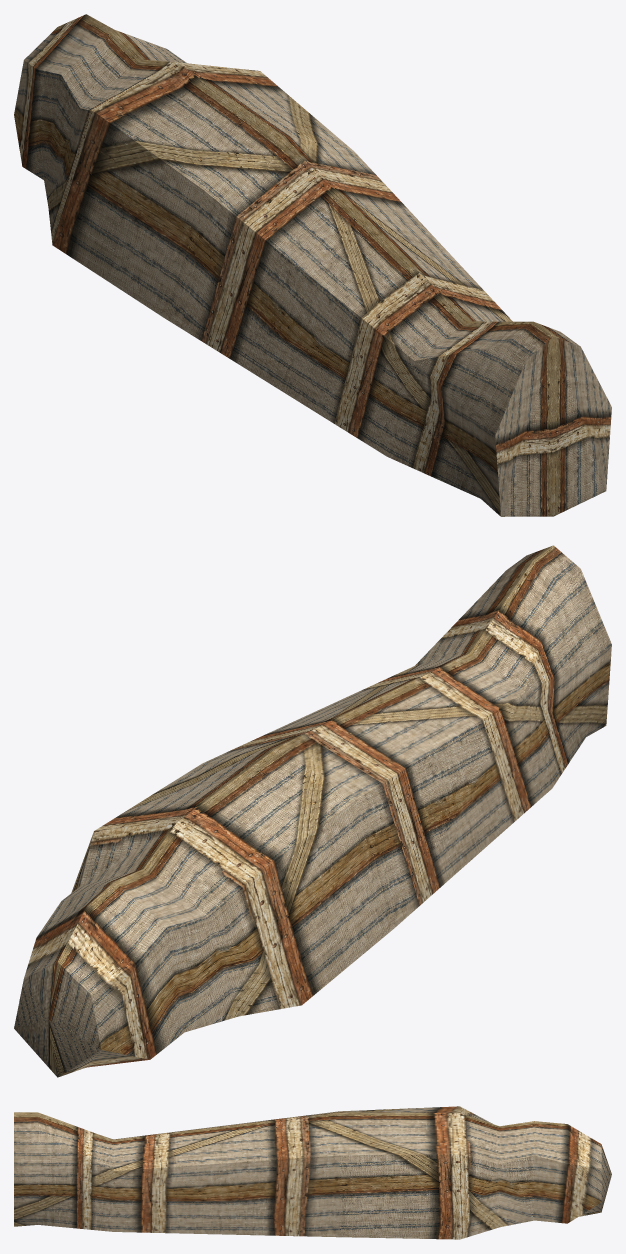
File: mm9_deco_mummyew.glb
3 views of the same model, one above another, from view 1: azimuth 30°, elevation 25°; view 2: azimuth 150°, elevation 25°; view 3: azimuth 270°, elevation 25° (orthographic). The views are drawn at different scales.
Parts seen in each view (by area): view 1: Mummyew; view 2: Mummyew; view 3: Mummyew.
Part boxes in pixels (x1,y1,x2,y2): Mummyew: (14,14,611,516); Mummyew: (14,545,611,1077); Mummyew: (14,1106,611,1239).
Bounding box in the file's own units: 0.8321 × 0.5744 × 2.92.
Materials: 1 (1 with a texture image).
